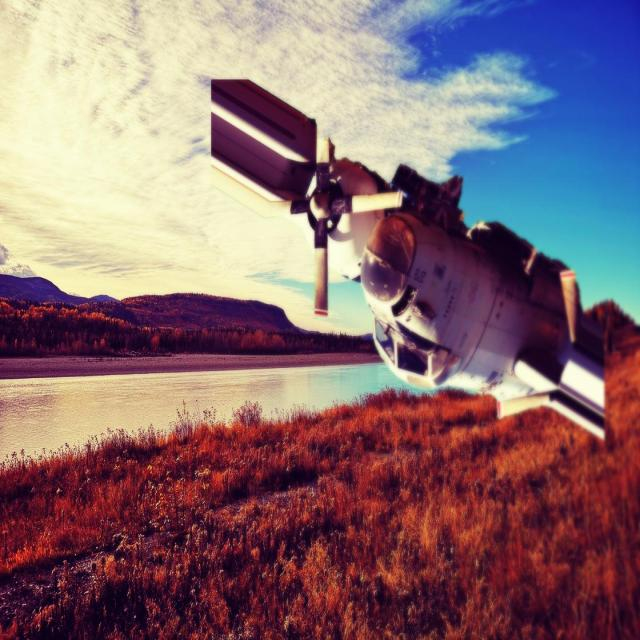airplane: (209, 76, 607, 442)
